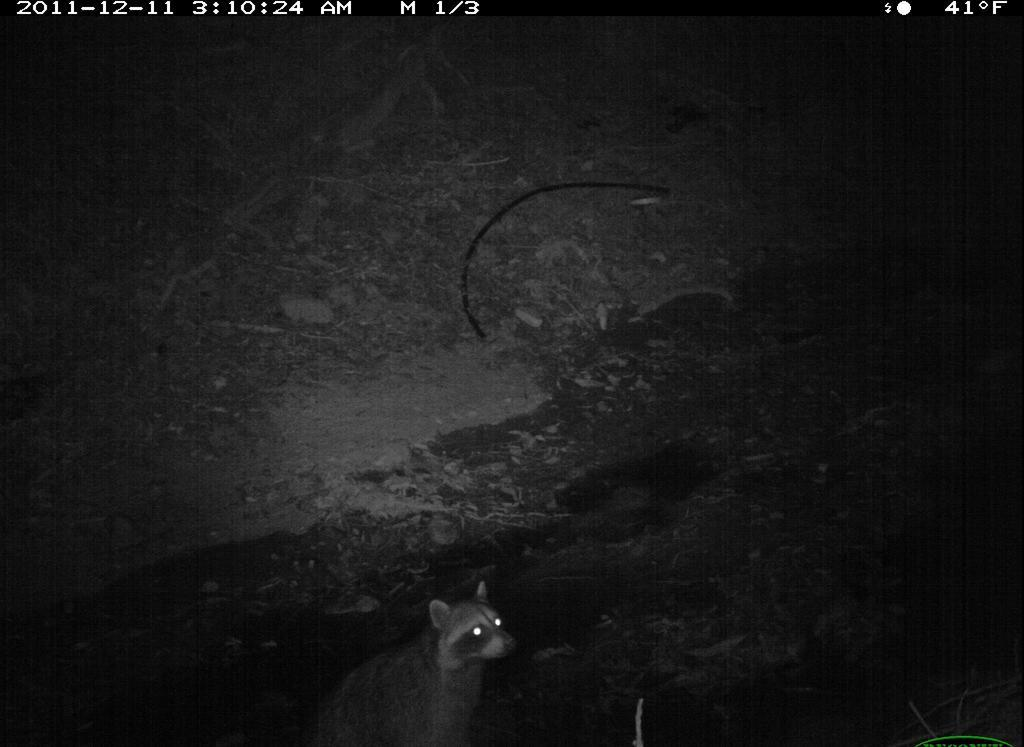raccoon: (300, 577, 516, 739)
